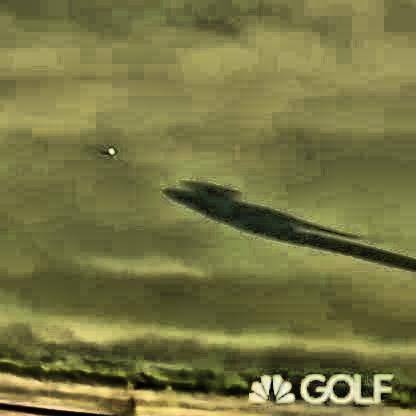golfball: (104, 143, 115, 154)
